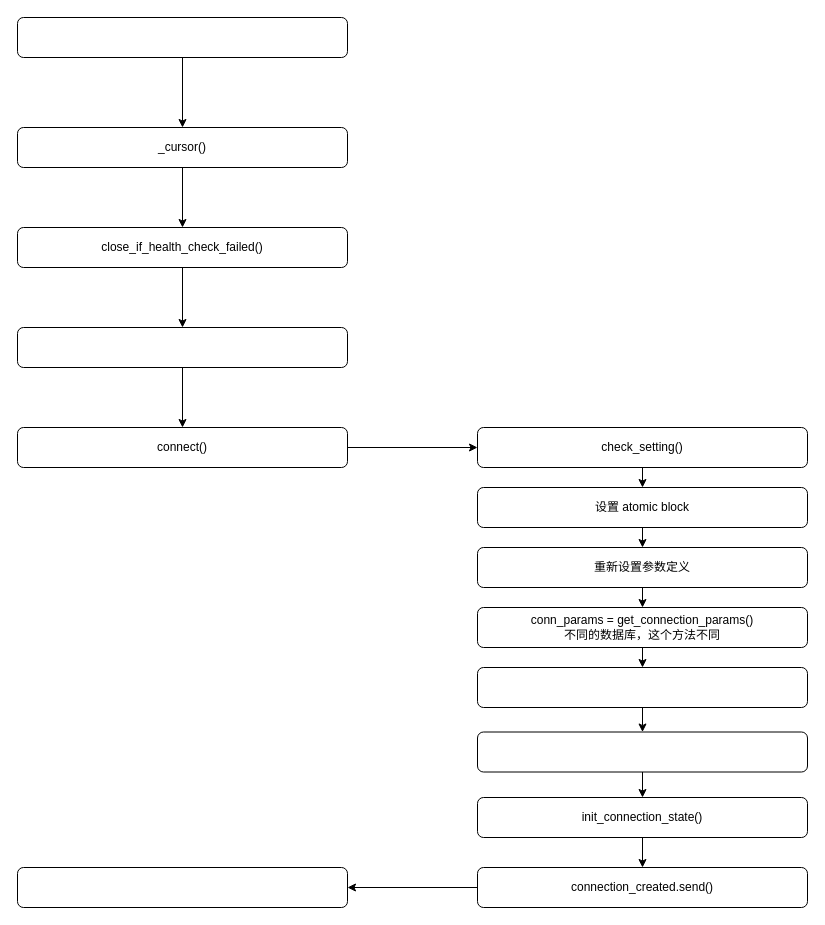
The diagram is 825 pixels wide and 925 high, and some of its shapes have lost their labels. Here are the shapes that lost their labels. From the top down, the centre of each, then its label:
[182,37]: connection.cursor()
[182,347]: ensure_connection()
[642,687]: self.connection = get_new_connection(conn_params) 不同的数据库，这个方法不同
[642,751]: set_autocommit()
[182,887]: 连接结束
